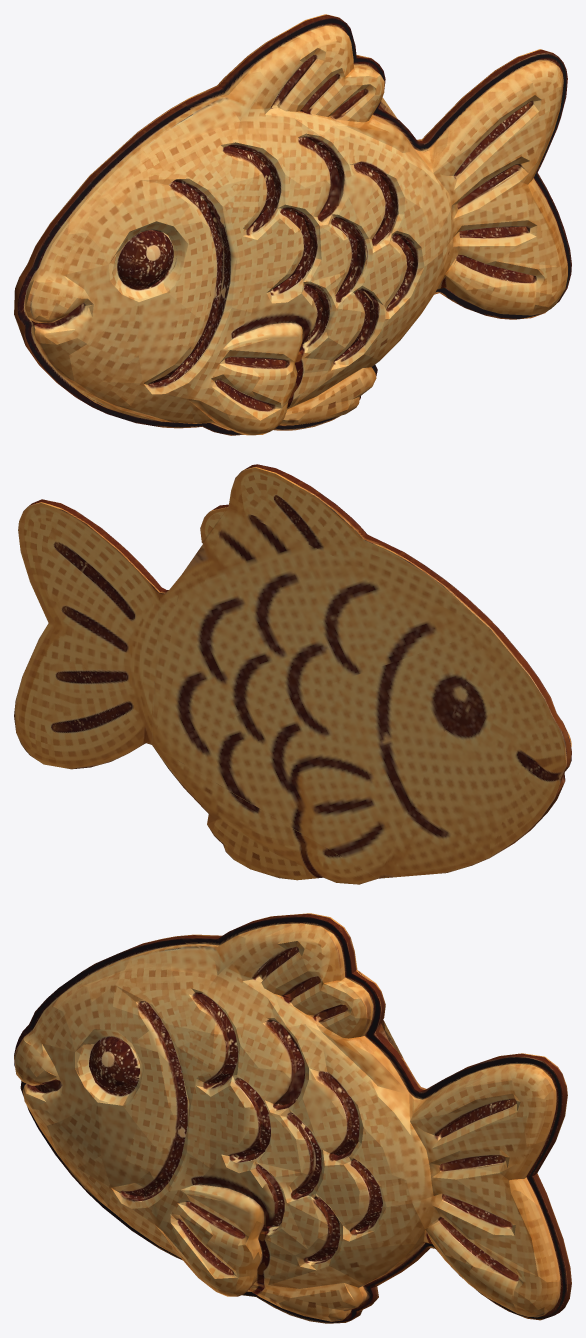
File: Meshy_AI_Fish_Snack_Collectible_Low_Poly_20261118_texture_remesh_tri.fbx
3 renders of one model, top to bottom at view 1: azimuth 30°, elevation 25°; view 2: azimuth 150°, elevation 25°; view 3: azimuth 330°, elevation 25°, orthographic.
Visible parts, largest first — view 1: output_unwrapped; view 2: output_unwrapped; view 3: output_unwrapped.
Part boxes in pixels (<box>): output_unwrapped: <box>14,14,571,435</box>; output_unwrapped: <box>14,464,571,884</box>; output_unwrapped: <box>14,913,571,1323</box>.
Size of the model in its own units: 190 by 133 by 17.19.
1 material, 1 textured.
